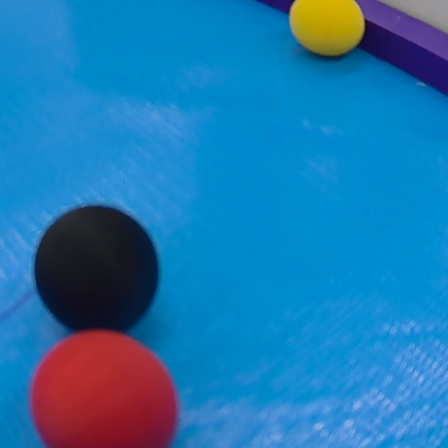black: (32, 199, 161, 341)
blue_aim: (3, 2, 448, 448)
red: (27, 329, 184, 448)
yellow: (281, 0, 373, 61)
